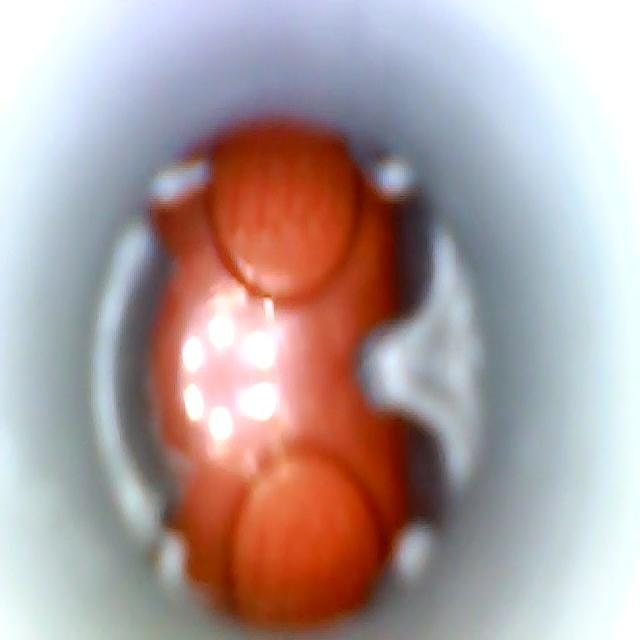studs: (205, 125, 361, 299), (231, 452, 386, 624)
